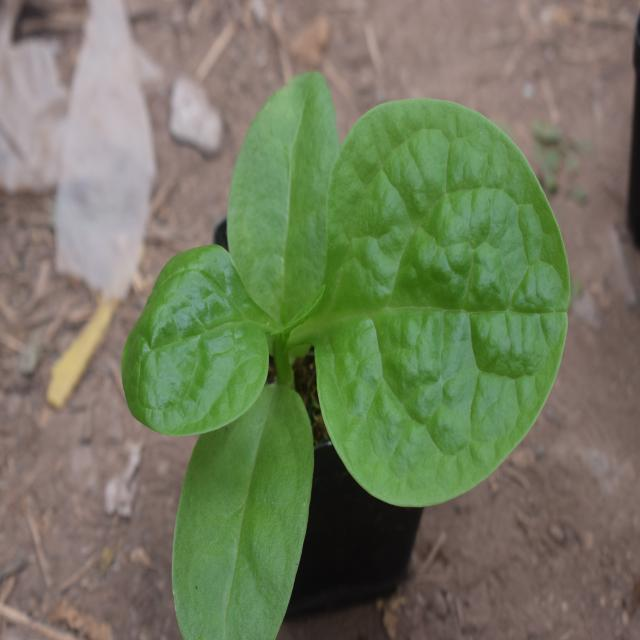Ceylon spinach: (132, 101, 559, 592)
